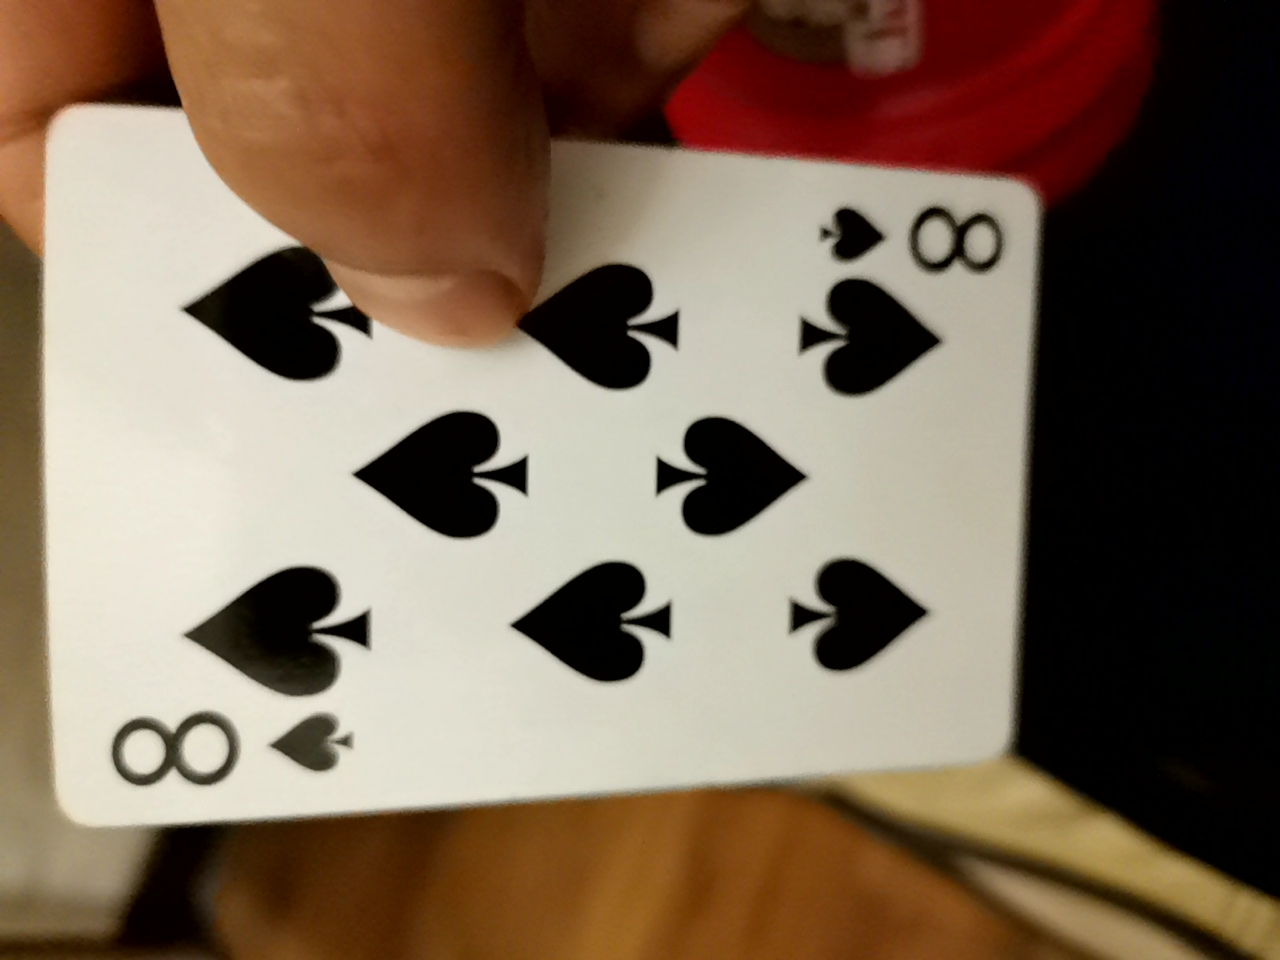ht 8: (19, 120, 1050, 837)
